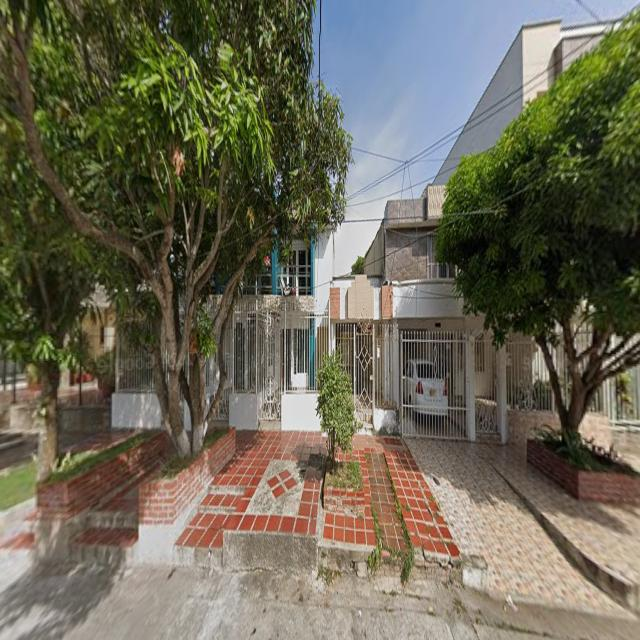Fachada: (435, 13, 640, 443), (111, 223, 340, 439), (320, 185, 512, 442)
